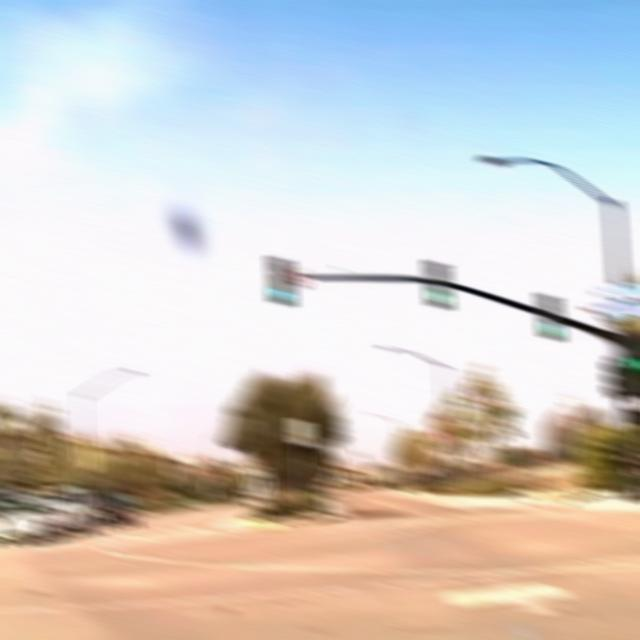speedLimit50: (289, 418, 313, 446)
